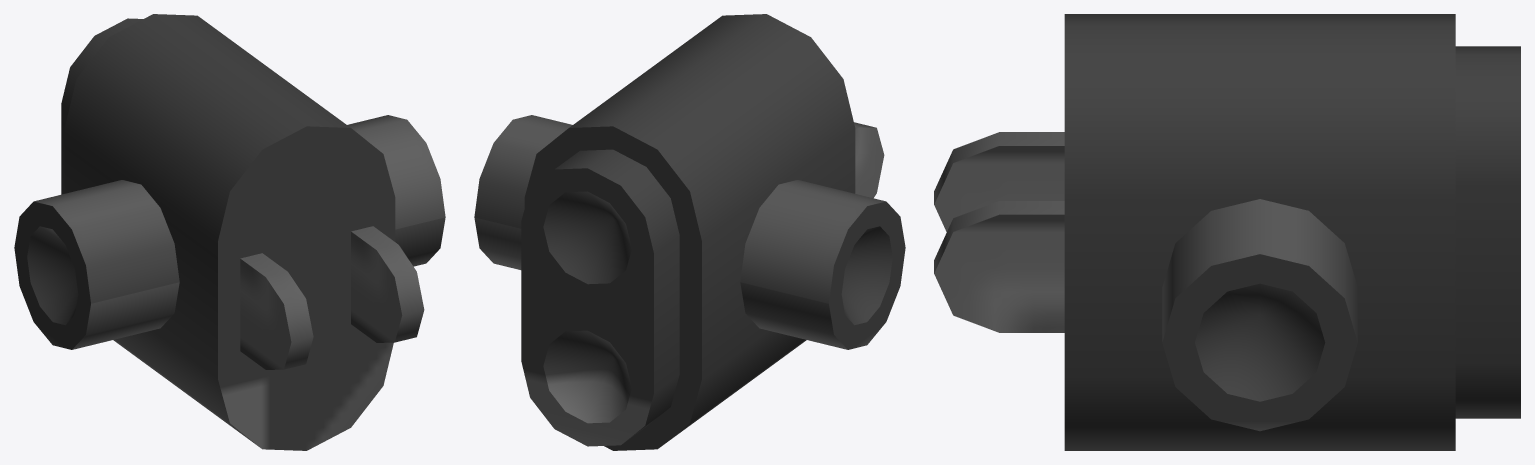
File: libra_rcs_srf_2_head.obj
3 renders of one model, left to right at view 1: azimuth 30°, elevation 25°; view 2: azimuth 150°, elevation 25°; view 3: azimuth 270°, elevation 25°, orthographic. The views are drawn at different scales.
Parts seen in each view (by area): view 1: libra_rcs_srf_2; view 2: libra_rcs_srf_2; view 3: libra_rcs_srf_2.
Part boxes in pixels (x1,y1,x2,y2): libra_rcs_srf_2: (14,14,445,450); libra_rcs_srf_2: (474,14,905,450); libra_rcs_srf_2: (934,14,1520,450).
Size of the model in its own units: 0.2 by 0.175 by 0.225.
